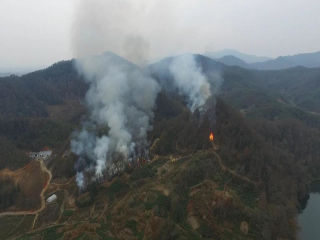smoke: (63, 4, 162, 189), (169, 47, 220, 121)
